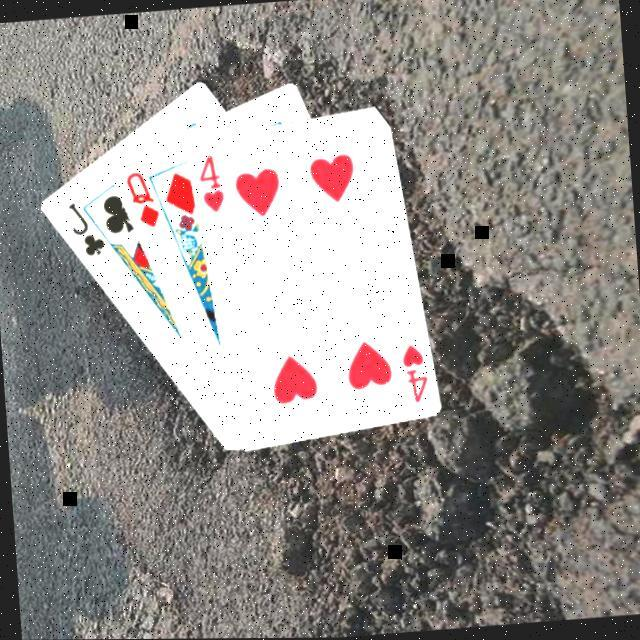4H: (396, 341, 430, 406), (192, 152, 226, 216)
JC: (62, 196, 107, 262)
QD: (120, 167, 162, 233)
